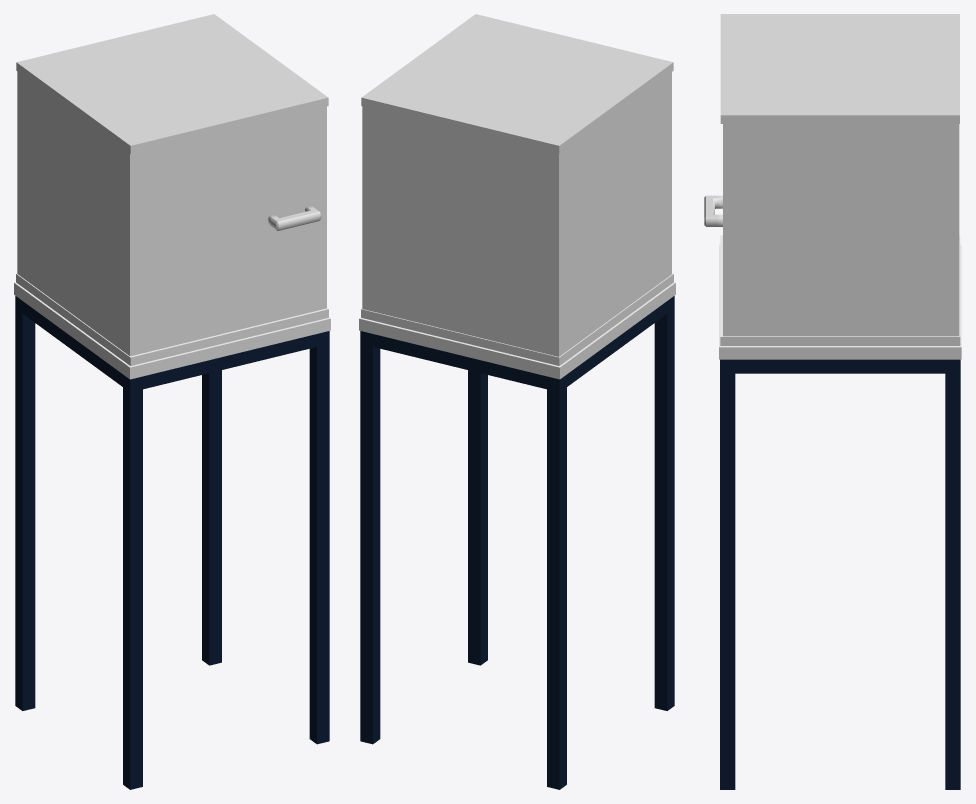
The model's file is Pass-Through.fbx.
3 views of the same model, side by side, from view 1: azimuth 30°, elevation 25°; view 2: azimuth 150°, elevation 25°; view 3: azimuth 270°, elevation 25° (orthographic). The views are drawn at different scales.
Parts seen in each view (by area): view 1: Walls, Door, Legs, Floor, Handle; view 2: Walls, Legs, Floor, Door; view 3: Walls, Legs, Floor, Door, Handle.
Part boxes in pixels (left/top/right/bottom): Walls: left=16, top=14, right=328, bottom=365; Door: left=125, top=106, right=326, bottom=356; Legs: left=15, top=296, right=329, bottom=789; Floor: left=14, top=282, right=330, bottom=379; Handle: left=268, top=206, right=321, bottom=230; Walls: left=361, top=14, right=673, bottom=365; Legs: left=360, top=296, right=674, bottom=789; Floor: left=359, top=282, right=675, bottom=379; Door: left=667, top=72, right=671, bottom=277; Walls: left=720, top=14, right=960, bottom=345; Legs: left=720, top=359, right=960, bottom=789; Floor: left=719, top=244, right=961, bottom=359; Door: left=723, top=124, right=732, bottom=336; Handle: left=704, top=195, right=722, bottom=226.
Size of what is drawn, in the model's own units: 52.06 by 150 by 49.1.
